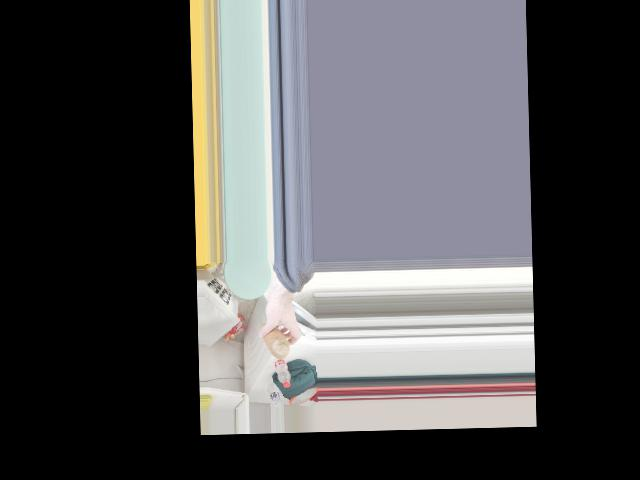sweet_potato: (257, 317, 291, 357)
